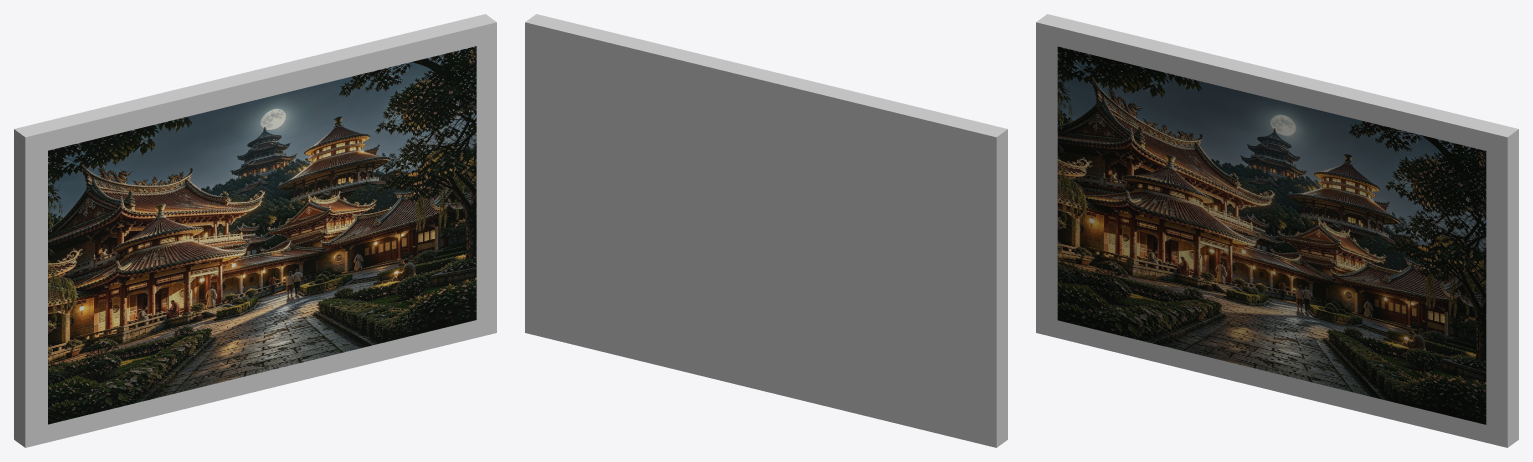
Rendered from huang (3).glb.
The picture shows the model from 3 angles, left to right: view 1: azimuth 30°, elevation 25°; view 2: azimuth 150°, elevation 25°; view 3: azimuth 330°, elevation 25°; orthographic projection.
Parts seen in each view (by area): view 1: 平面, 立方体; view 2: 立方体; view 3: 平面, 立方体.
Part boxes in pixels (x1,y1,x2,y2): 平面: (48,46,476,424); 立方体: (14,14,496,447); 立方体: (525,14,1007,447); 平面: (1057,46,1486,424); 立方体: (1036,14,1518,447).
Size of the model in its own units: 3.6 by 2.27 by 0.1551.
Materials: 1 (1 with a texture image).
